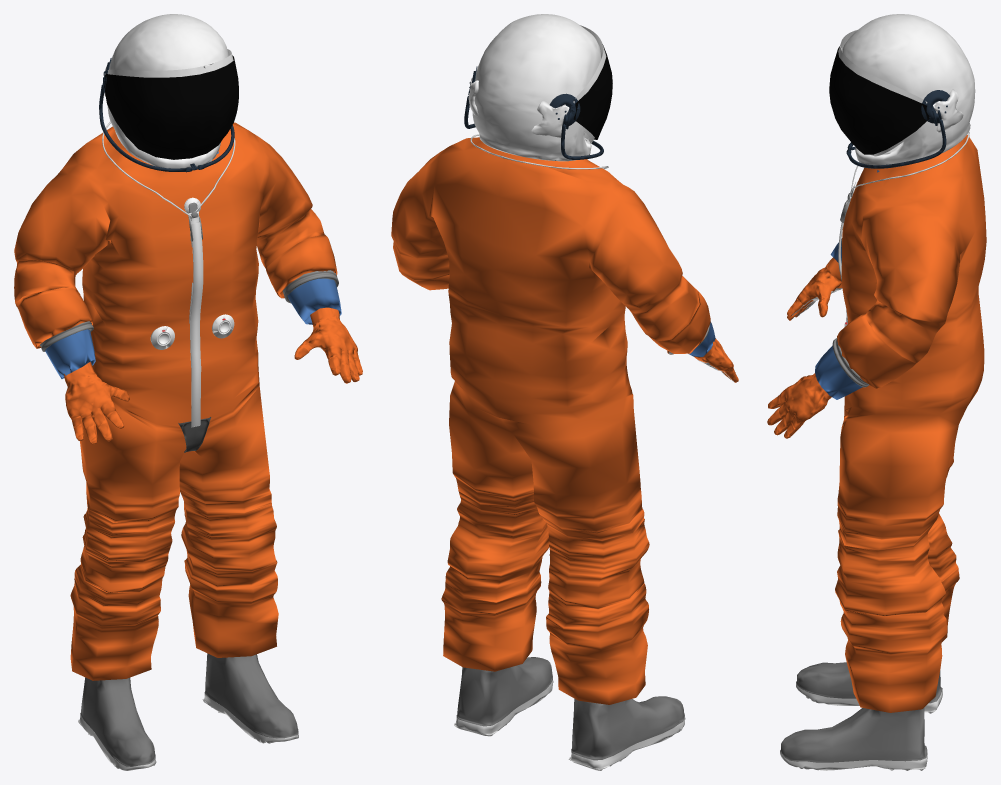
Rendered from spacesuit-aces.glb.
The picture shows the model from 3 angles, left to right: view 1: azimuth 30°, elevation 25°; view 2: azimuth 150°, elevation 25°; view 3: azimuth 270°, elevation 25°; orthographic projection. The views are drawn at different scales.
Visible parts, largest first — view 1: Advanced Crew Escape Suit; view 2: Advanced Crew Escape Suit; view 3: Advanced Crew Escape Suit.
Part boxes in pixels (x1,y1,x2,y2): Advanced Crew Escape Suit: (14,14,362,770); Advanced Crew Escape Suit: (391,14,738,770); Advanced Crew Escape Suit: (767,14,986,770).
Bounding box in the file's own units: 0.4445 × 1 × 0.278.
